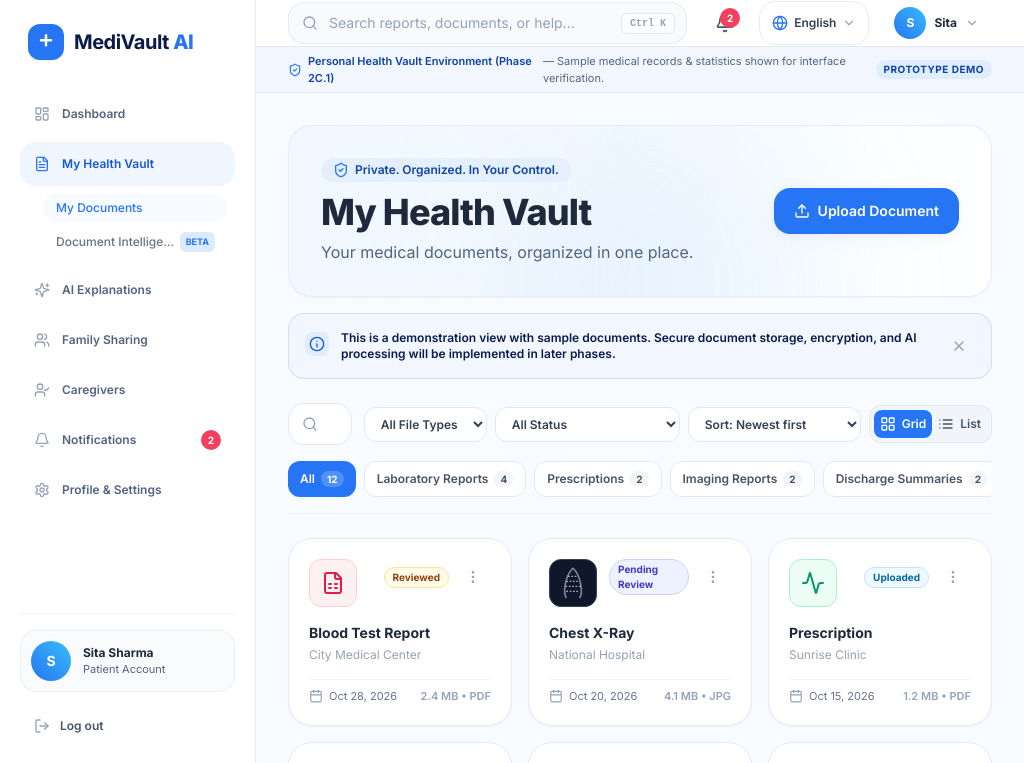
Test: MediVault AI — Phase 2C.1 Personal Health Vault Frontend Suite › 12. opens Document Action Menu and allows renaming document title
Click the button named "Options for ".
click(473, 577)  # box x1=455 y1=559 x2=491 y2=595
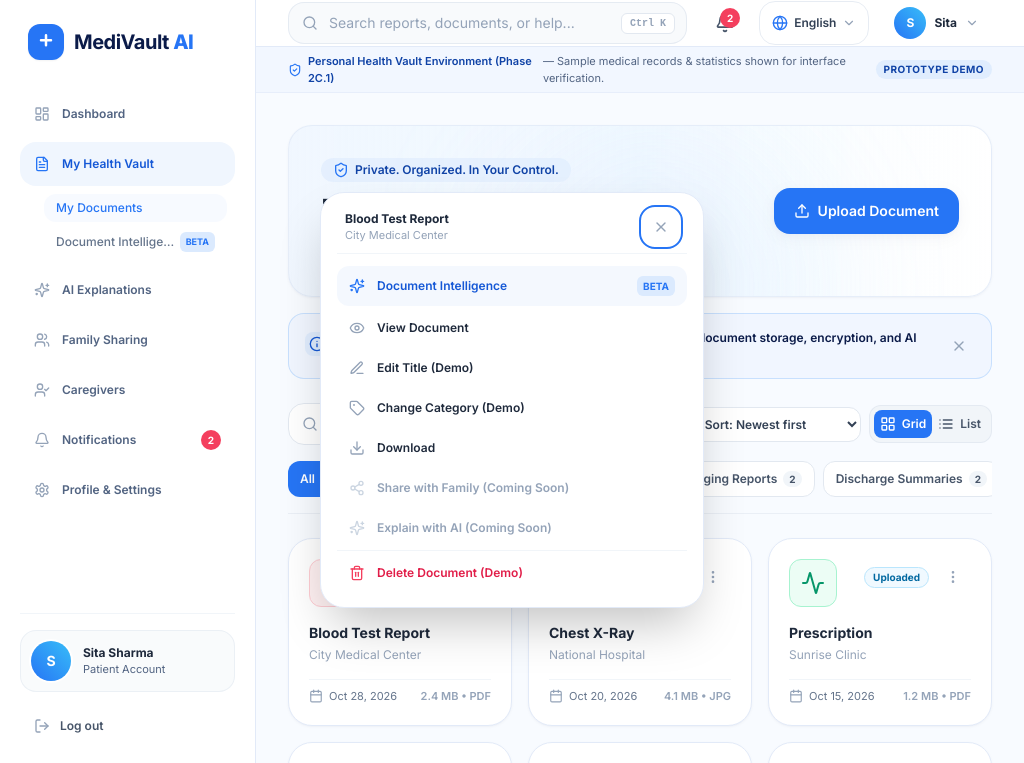
Click "Edit Title (Demo)"
Click the button "Edit Title (Demo)".
click(425, 368)  # box x1=337 y1=350 x2=687 y2=386
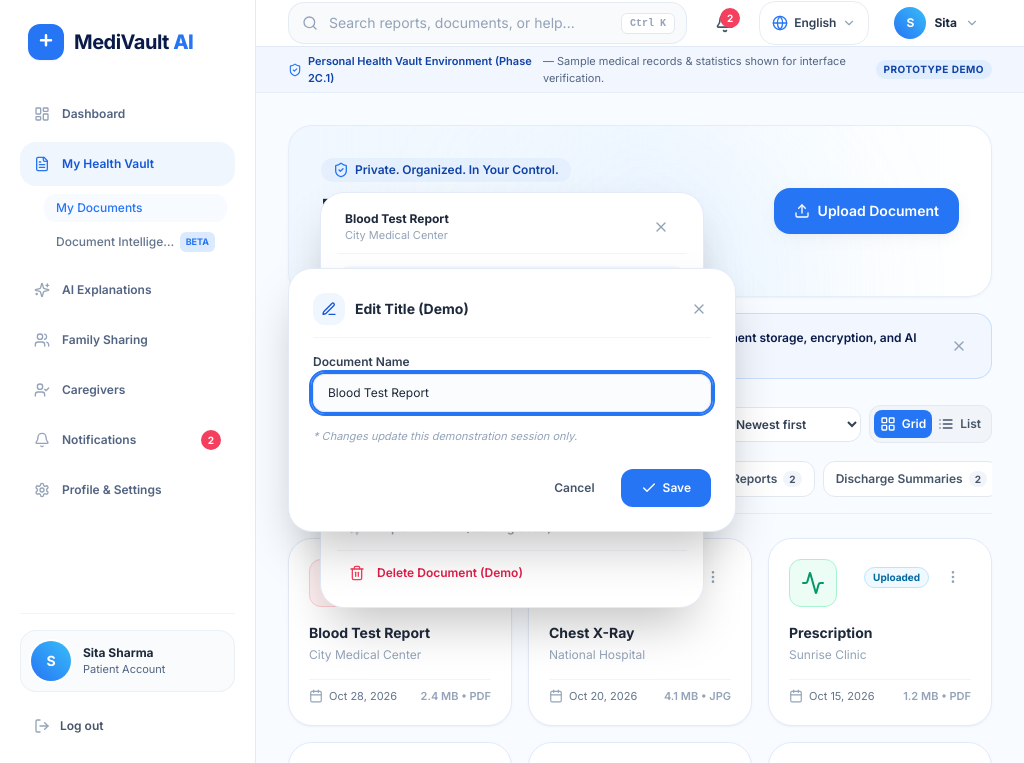
Expected: the heading "Edit Title (Demo)" is shown, x1=355 y1=299 x2=469 y2=319
Replace the text in the field labelled "Document Name" with "Updated Comprehensive Panel" at (512, 393), box x1=313 y1=374 x2=711 y2=412
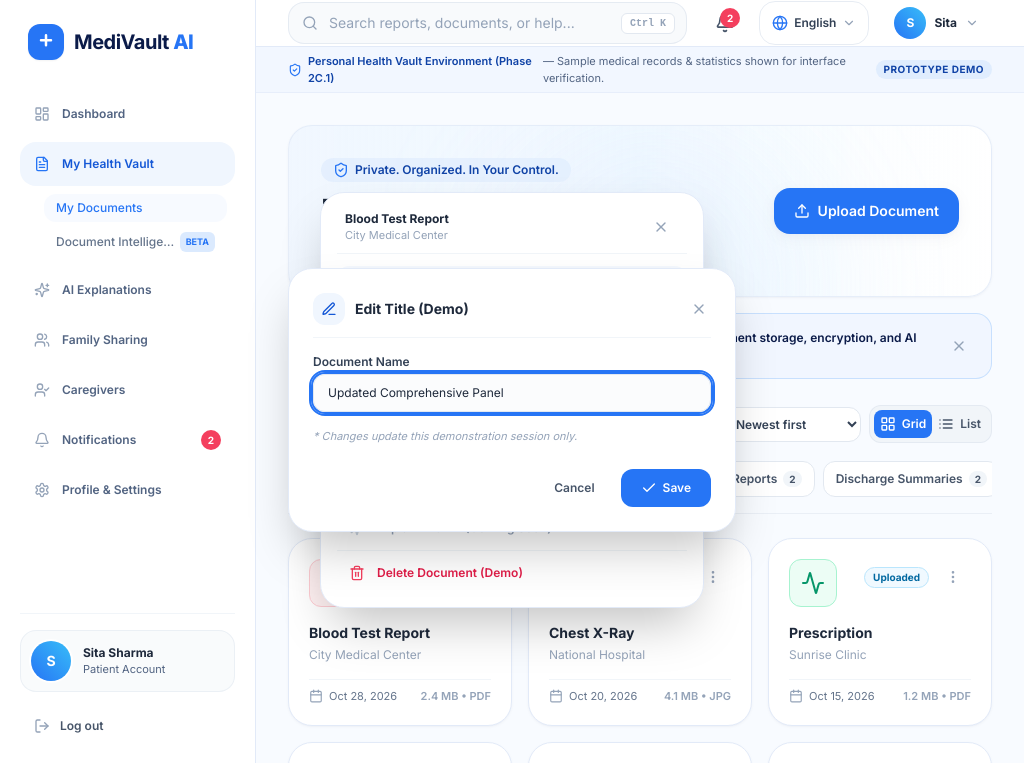
Click the button "Save".
click(666, 488)  # box x1=621 y1=469 x2=711 y2=507
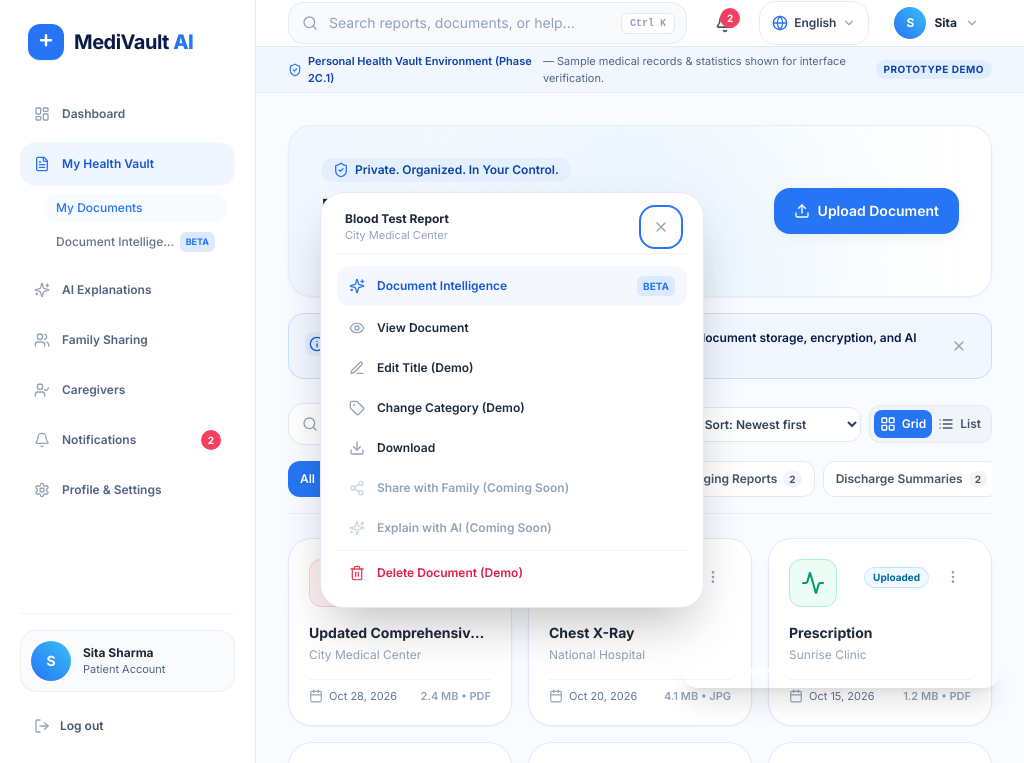
Expected: the heading "Updated Comprehensive Panel" is shown, x1=309 y1=623 x2=491 y2=643
